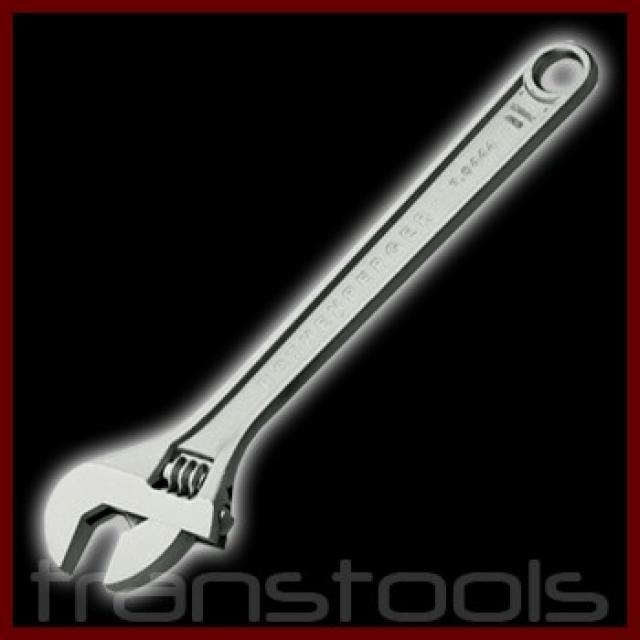wrench: (11, 12, 640, 590)
